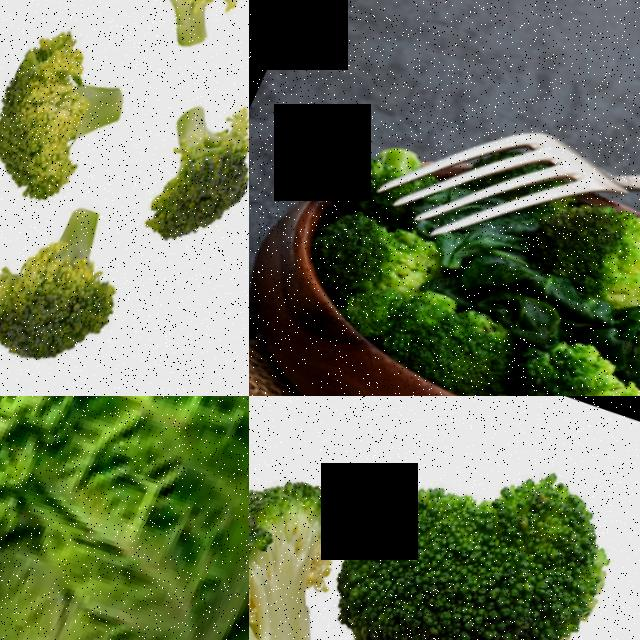broccoli: (302, 442, 640, 640), (0, 7, 172, 229), (0, 191, 162, 385), (249, 418, 369, 640), (122, 86, 249, 264), (372, 281, 555, 396), (305, 187, 469, 301), (533, 189, 640, 334), (98, 0, 249, 95), (528, 338, 640, 396)
cabbage: (0, 396, 249, 640)
